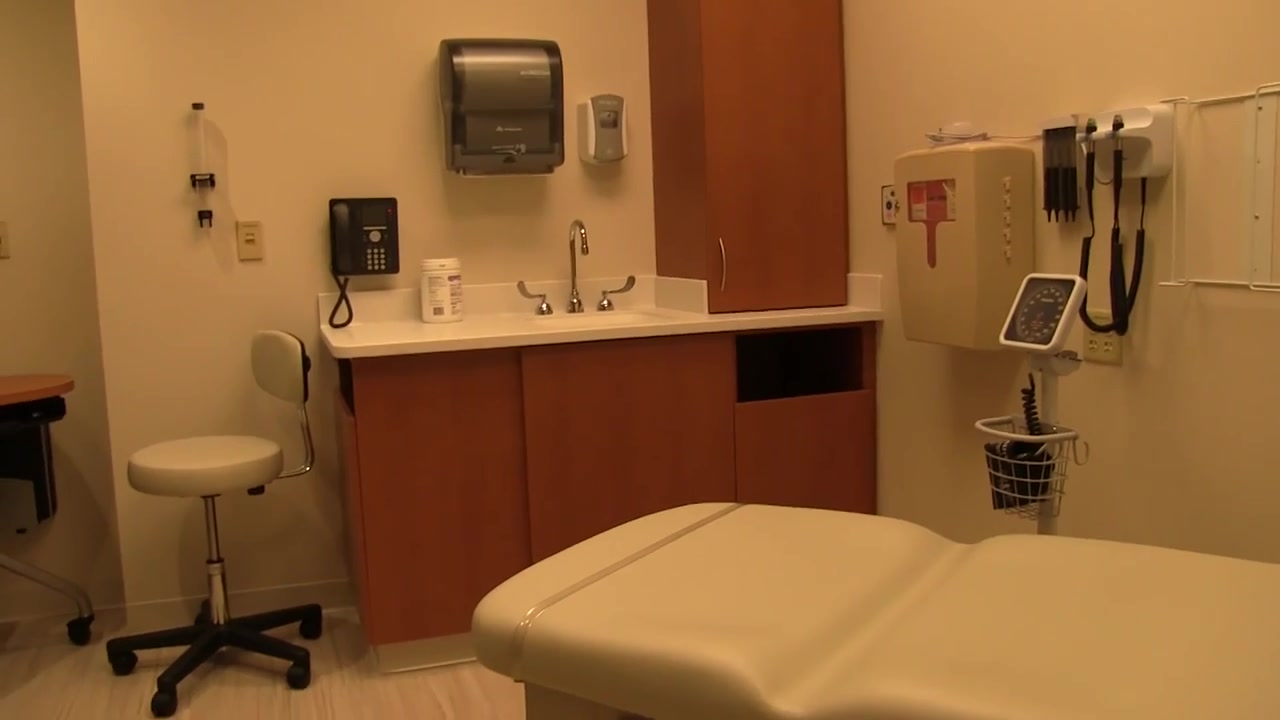cabinet: (644, 1, 851, 310)
chair: (105, 331, 320, 710)
counter: (321, 310, 880, 671)
countertop: (323, 310, 708, 359)
dispenser: (441, 38, 568, 175), (587, 92, 629, 168)
exam_table: (470, 500, 1280, 720)
faucet: (514, 217, 638, 314)
handle: (713, 236, 734, 297)
medical_waste_container: (891, 147, 1035, 350)
sink: (504, 309, 690, 327)
telephone: (324, 196, 401, 329)
